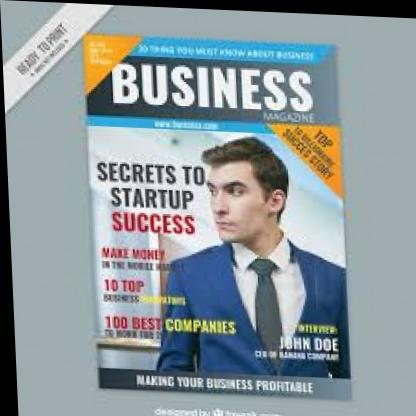Paper: (54, 12, 376, 406)
